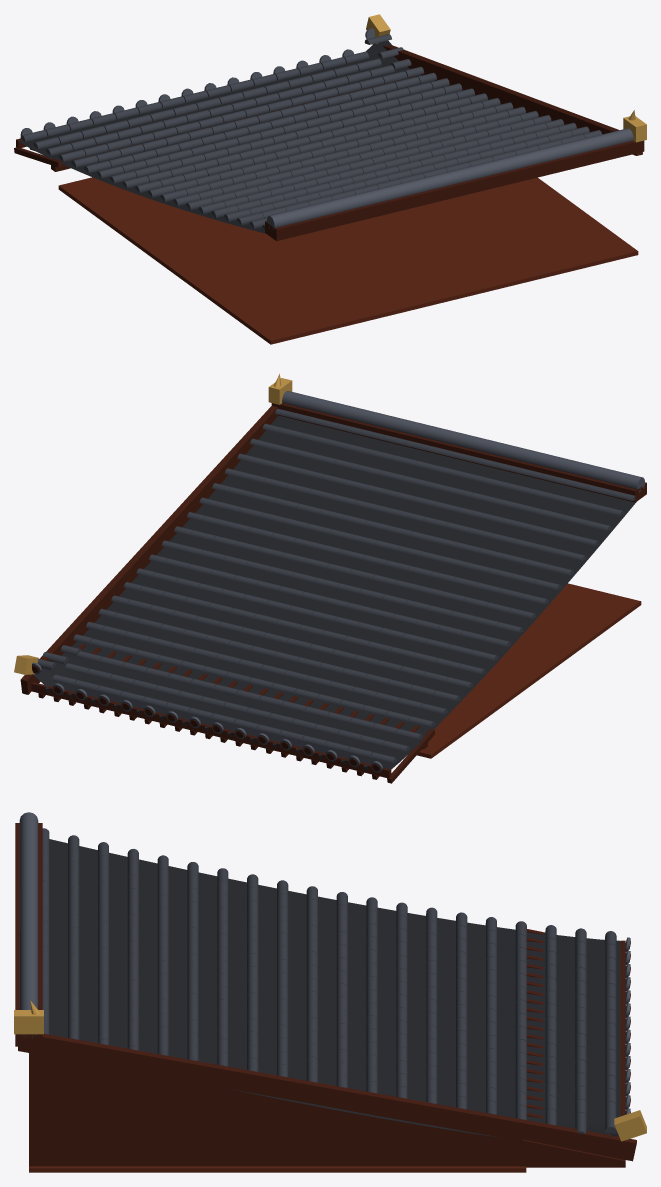
The model's file is pal1-inn-roof-back-east.glb.
3 views of the same model, one above another, from view 1: azimuth 30°, elevation 25°; view 2: azimuth 150°, elevation 25°; view 3: azimuth 270°, elevation 25° (orthographic). The views are drawn at different scales.
Visible parts, largest first — view 1: Pal1RoofBack; view 2: Pal1RoofBack; view 3: Pal1RoofBack.
Part boxes in pixels (box(x1,y1,x2,y2)): Pal1RoofBack: box(14, 14, 646, 344); Pal1RoofBack: box(14, 373, 646, 783); Pal1RoofBack: box(14, 812, 646, 1172).
Size of what is drawn, in the model's own units: 4.05 by 1.52 by 5.09.
